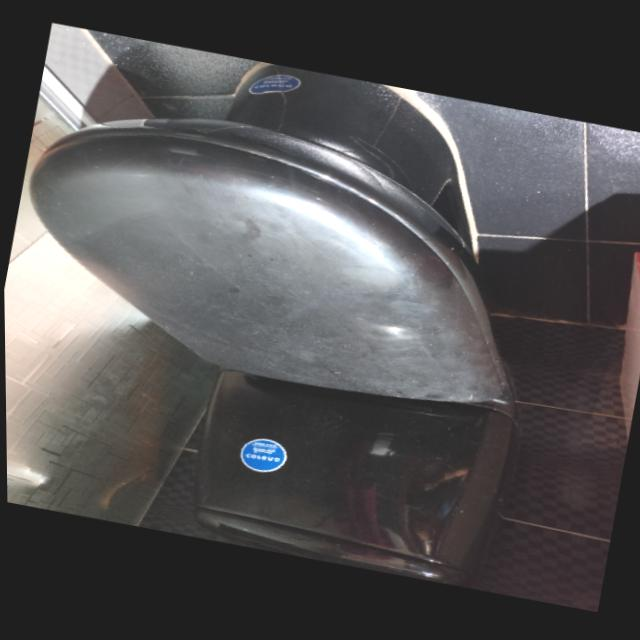toilet: (0, 22, 579, 596)
